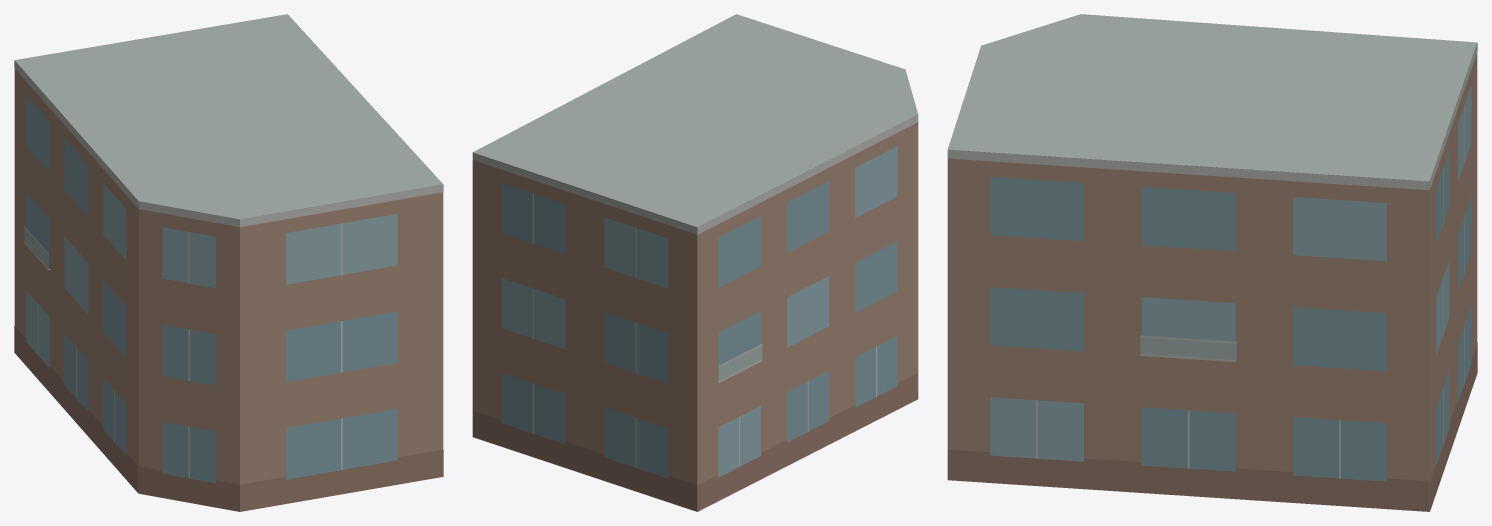
Rendered from survey-upis-32990737.glb.
3 renders of one model, left to right at view 1: azimuth 30°, elevation 25°; view 2: azimuth 150°, elevation 25°; view 3: azimuth 270°, elevation 25°, orthographic. The views are drawn at different scales.
Parts seen in each view (by area): view 1: survey-upis-32990737.tmp; view 2: survey-upis-32990737.tmp; view 3: survey-upis-32990737.tmp.
Part boxes in pixels (box(x1,y1,x2,y2)): survey-upis-32990737.tmp: box(14, 14, 443, 511); survey-upis-32990737.tmp: box(472, 14, 918, 511); survey-upis-32990737.tmp: box(947, 14, 1477, 511).
Size of the model in its own units: 9.9 by 9.1 by 13.24.
